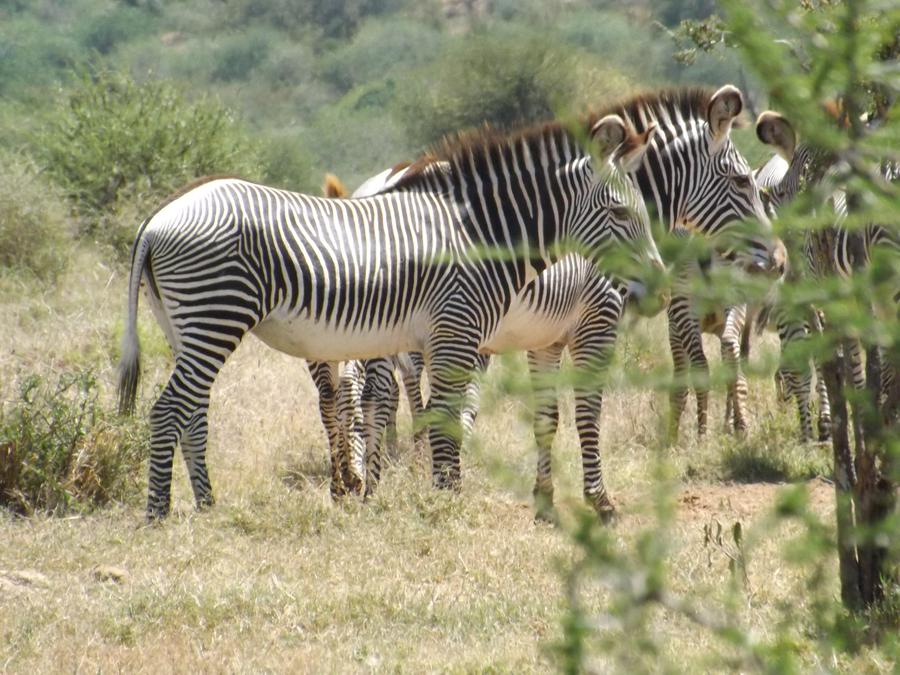zebra_grevys: (114, 163, 485, 351)
